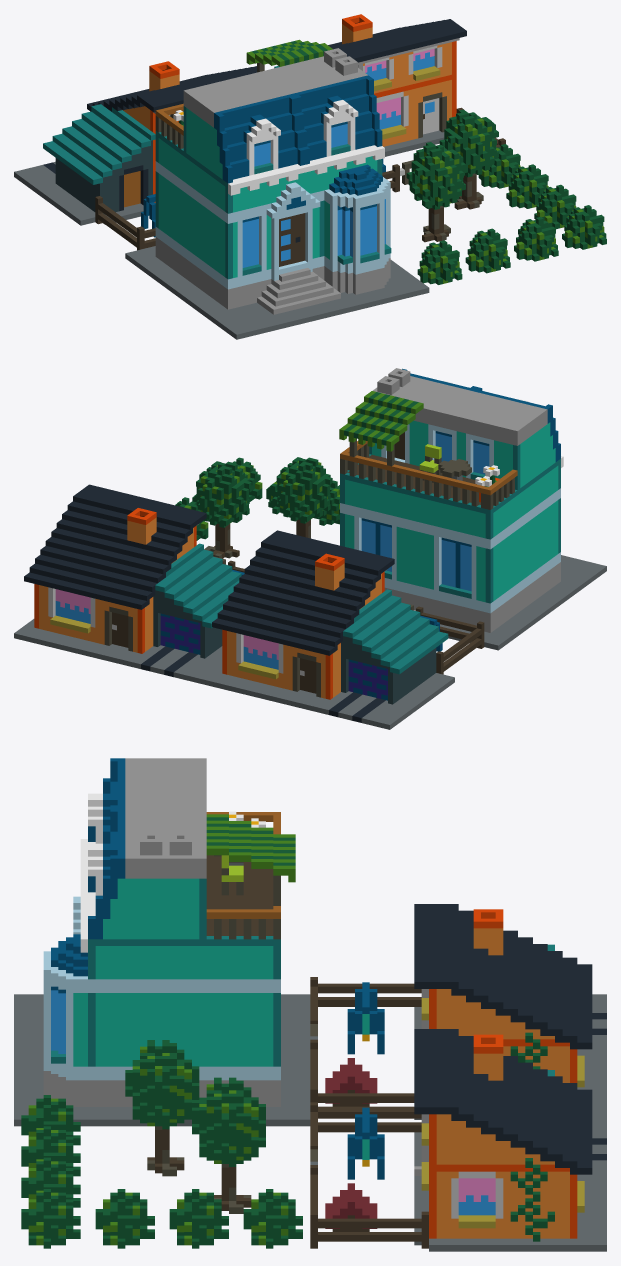
Rendered from building_small_5_overtile.obj.
3 renders of one model, top to bottom at view 1: azimuth 30°, elevation 25°; view 2: azimuth 150°, elevation 25°; view 3: azimuth 270°, elevation 25°, orthographic. The views are drawn at different scales.
Size of the model in its own units: 8 by 4 by 8.
Materials: 1 (1 with a texture image).
